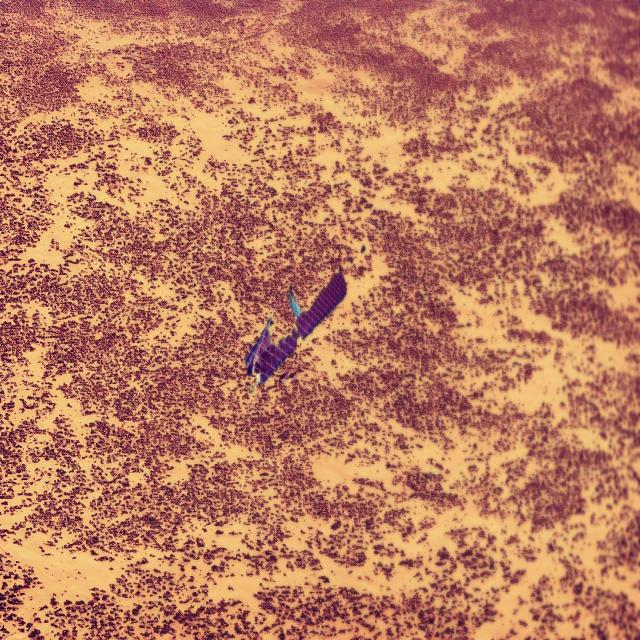airplane: (244, 270, 347, 390)
